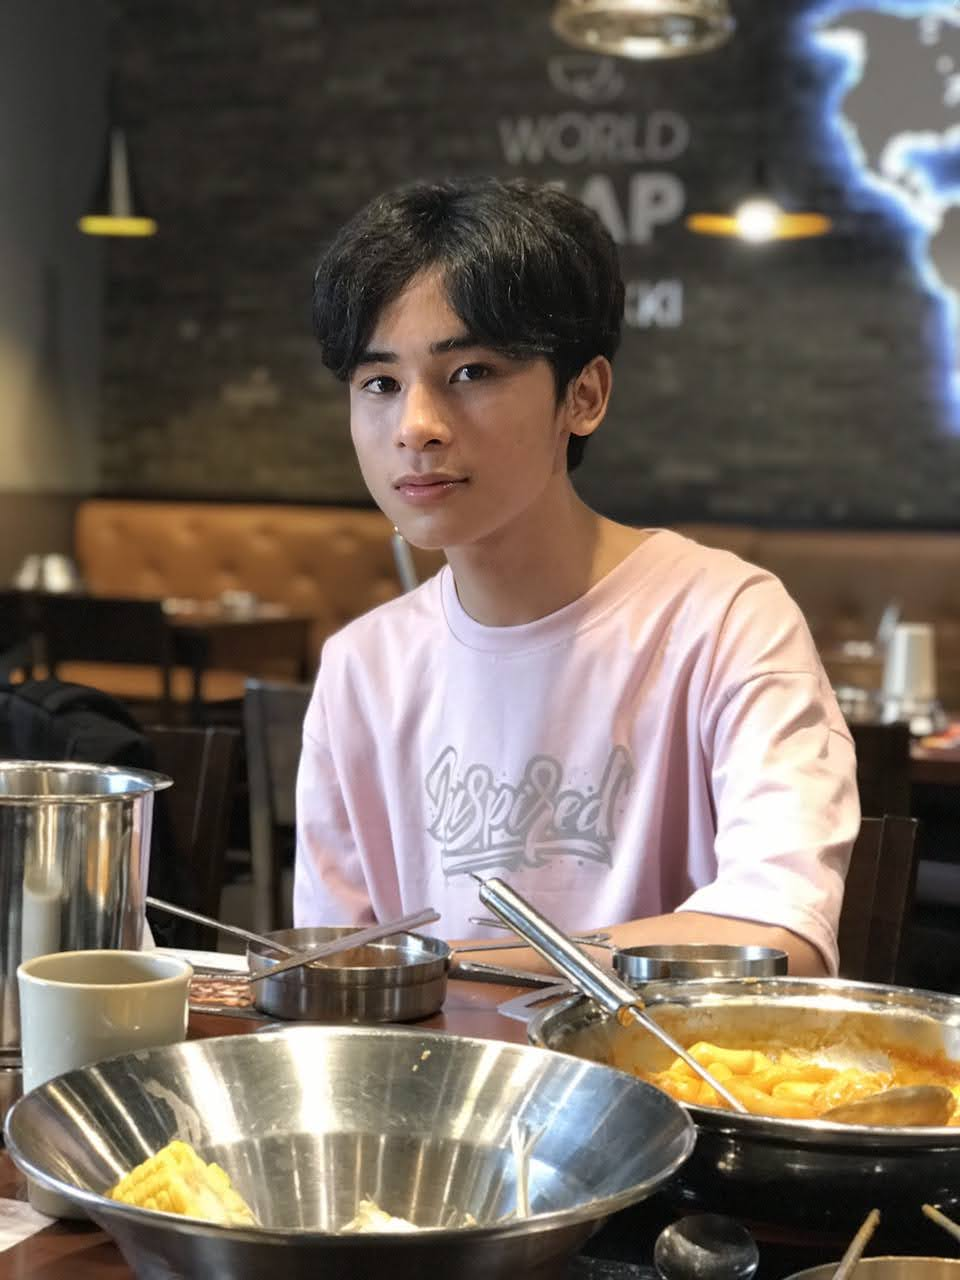face: (310, 169, 639, 559)
